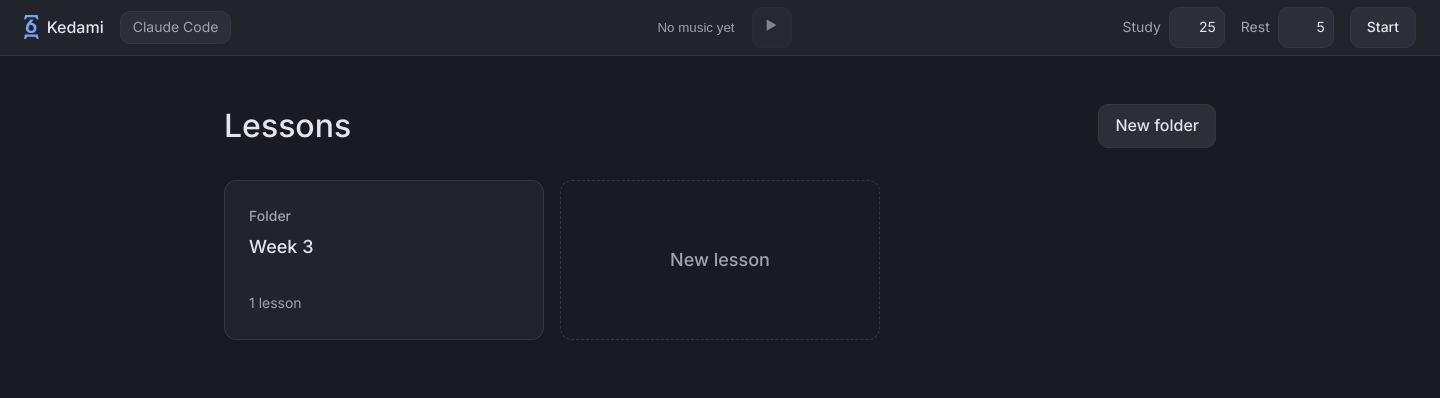
Test: App header › goes to the home page from inside a folder when Kedami is clicked
This screenshot has width=1440, height=398.
Step 1. Click the button with class "tile" showing "Folder Week 3 1 lesson" → point(270, 215), box [224,180,544,340]
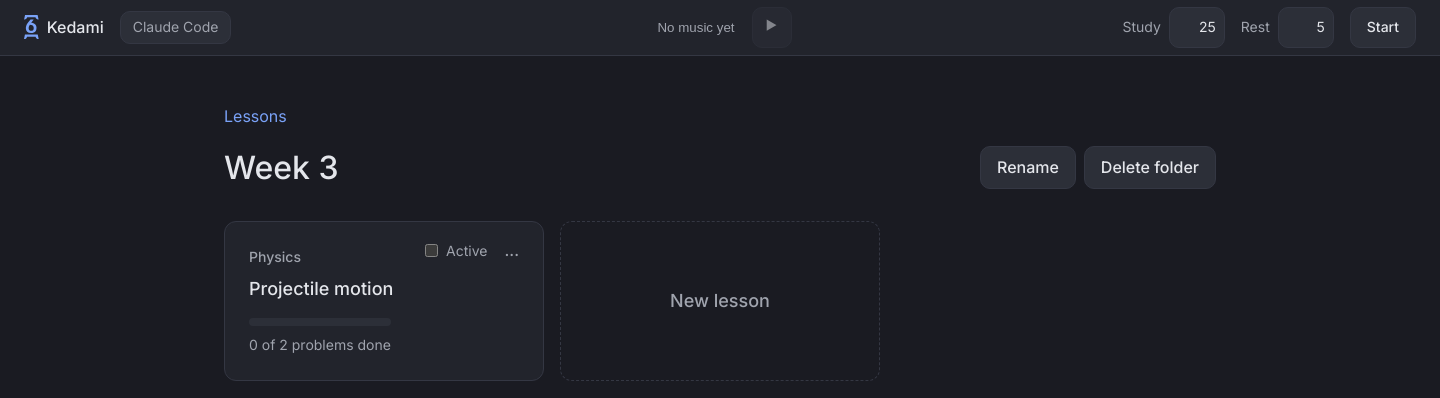
Result: the heading "Week 3" is shown at [224,147,339,188]
Step 2. Click the button with class "app-name" → point(64, 28), box [24,15,104,40]
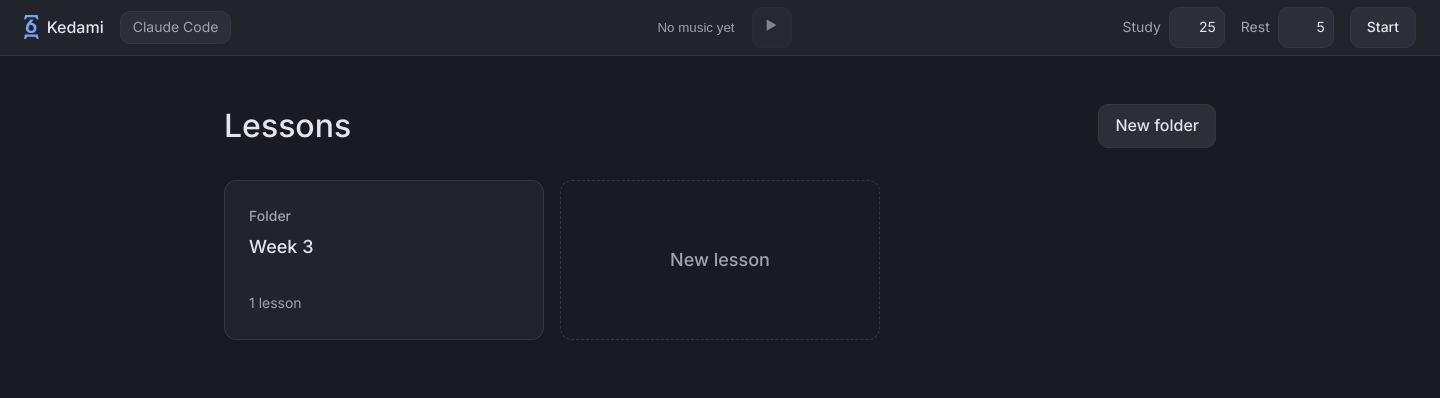
Result: the heading "Lessons" is shown at [224,105,351,147]
